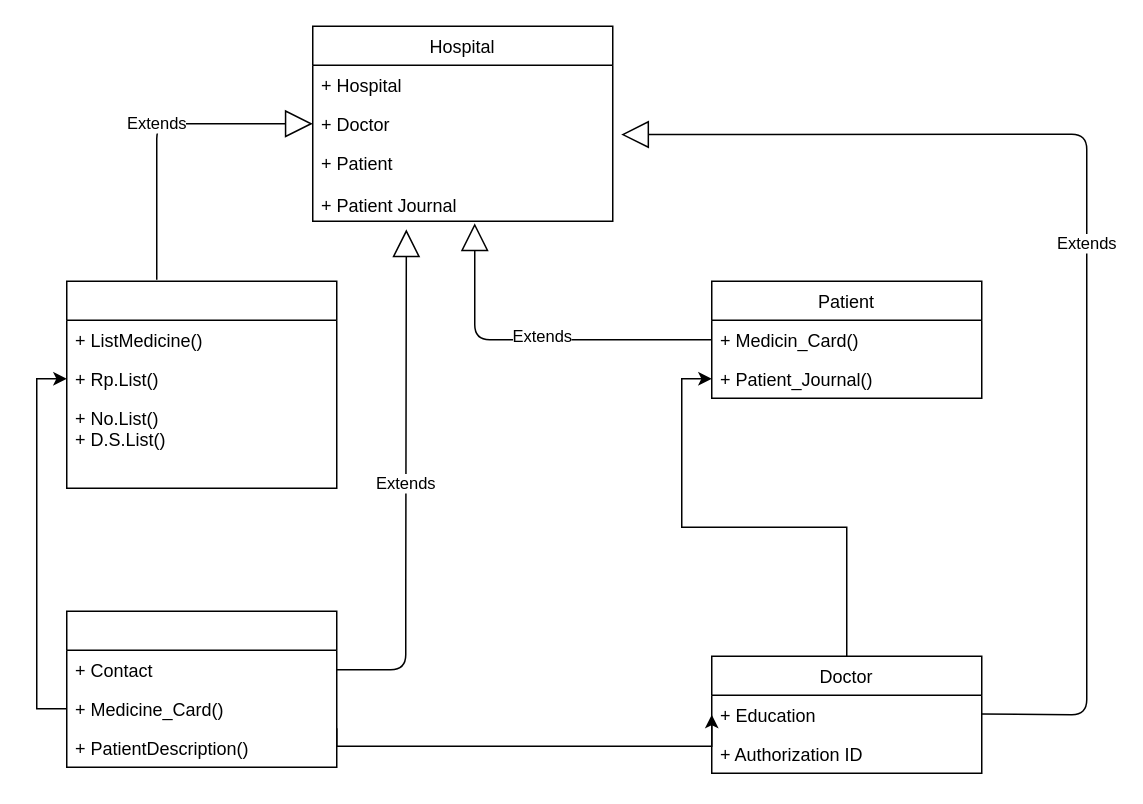
The diagram is 1143 pixels wide and 804 high, and some of its shapes have lost their labels. Here are the shapes that lost their labels. From the top down, the box of each, then its label:
(65, 280, 337, 488): Recept
(65, 610, 337, 767): Patient Journal
